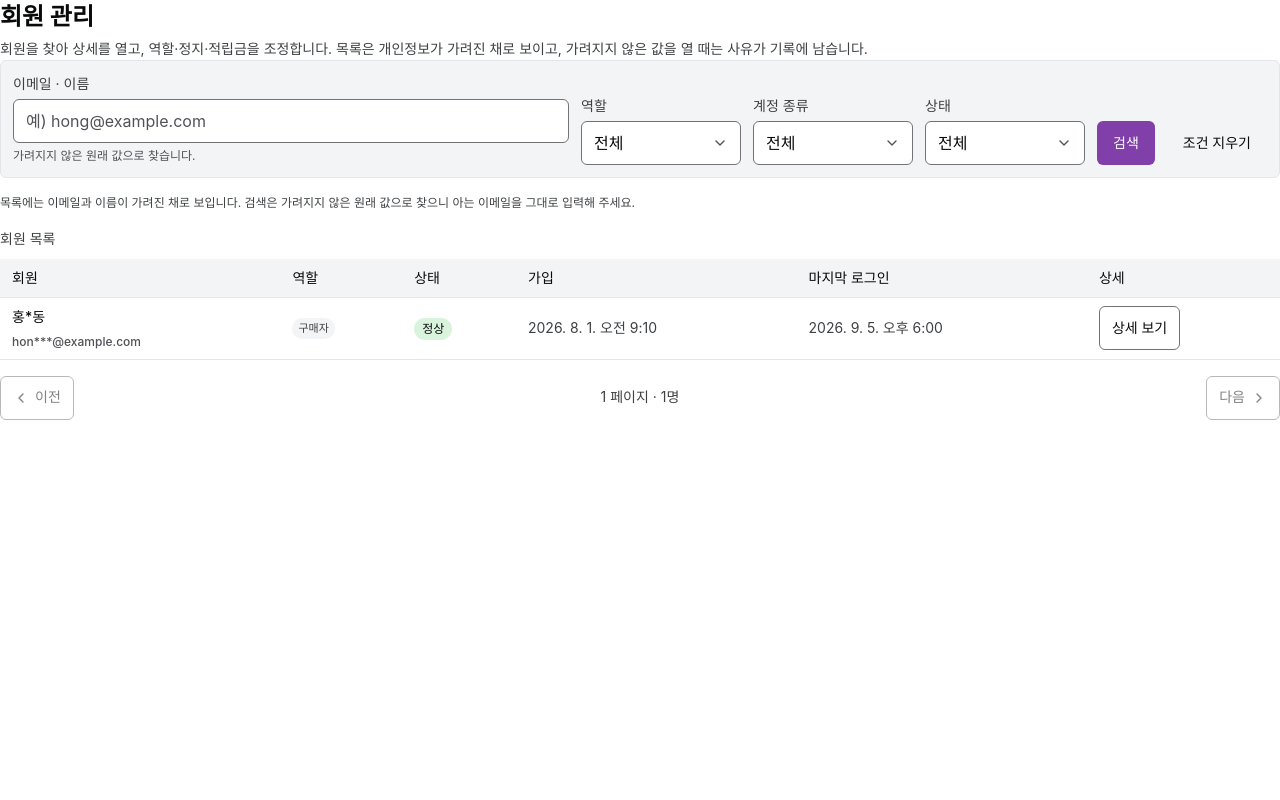
Scenario: 열람 (F7) › starts with an empty reason and refuses to send one
The width and height of the screenshot is (1280, 800).
Expected: the table "회원 목록" is shown, [0,228,1279,360]
Step 1. Click the button "상세 보기" → coordinates (1140, 328), box [1099,306,1180,350]
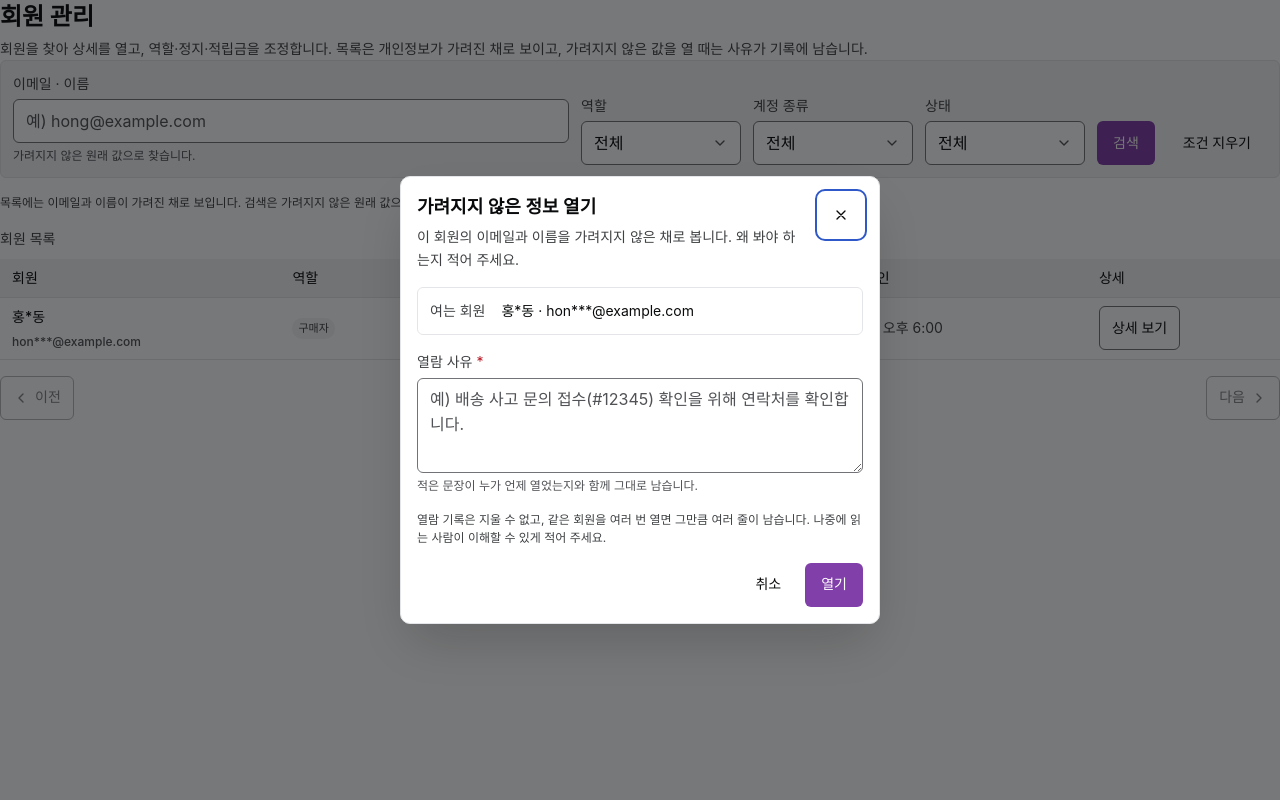
Result: the text box labelled "열람 사유" is empty at [417,378,863,473]
Step 2. Click the button "열기" → coordinates (834, 585), box [805,563,863,607]
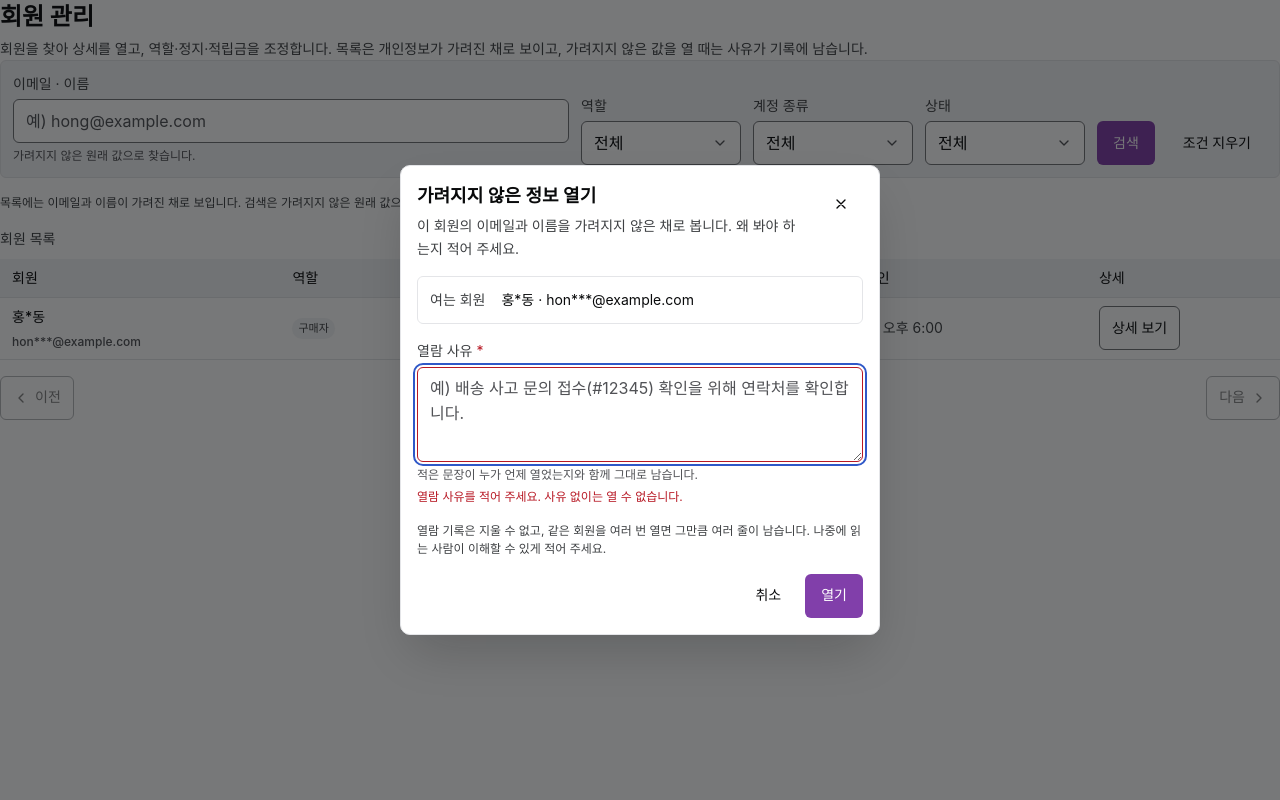
Result: the text "열람 사유를 적어 주세요. 사유 없이는 열 수 없습니다." is shown at [417,489,683,504]
